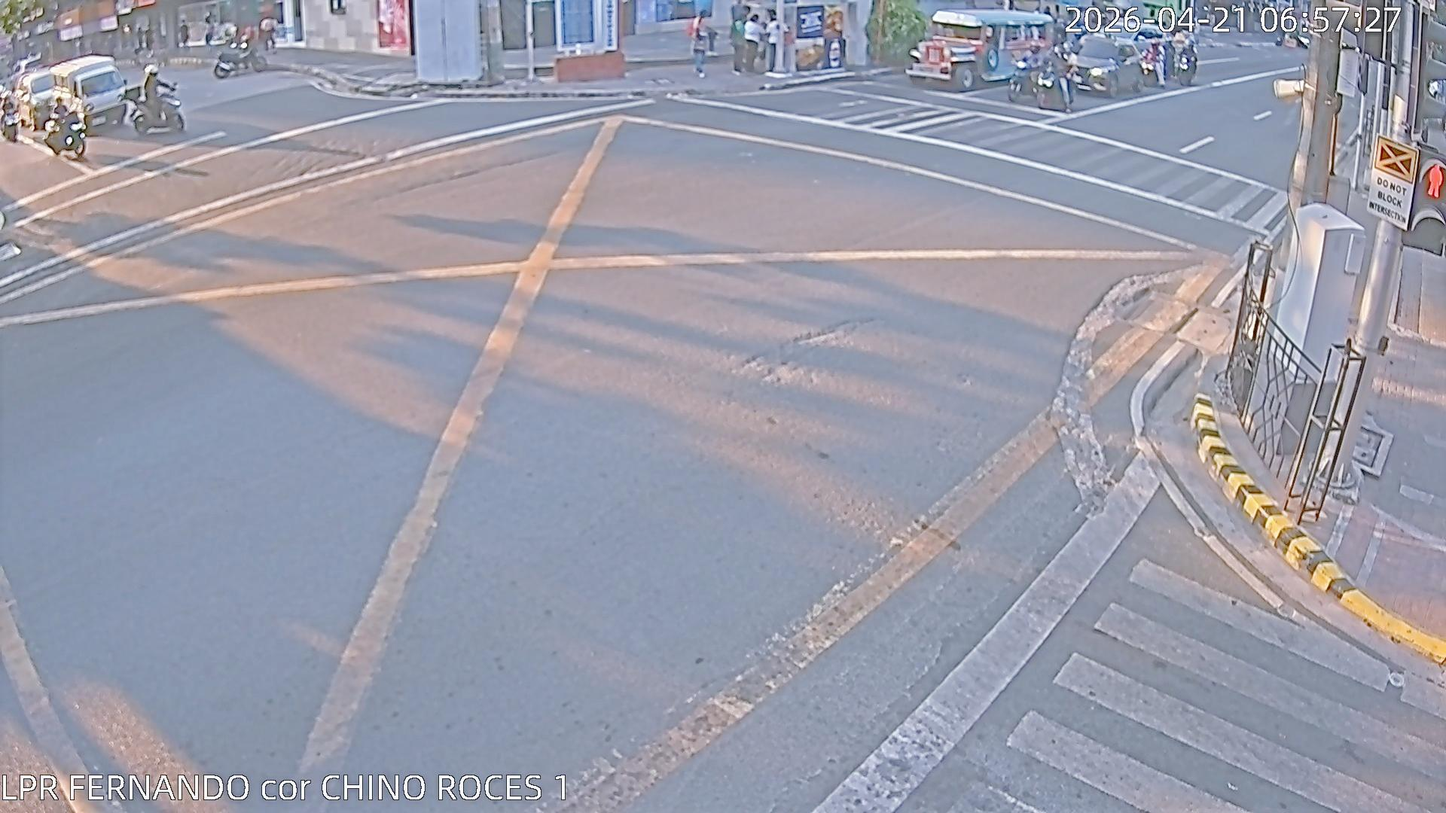Car: (1066, 36, 1147, 112), (57, 58, 133, 134), (15, 79, 74, 131)
Motor: (208, 14, 287, 88), (133, 70, 200, 140), (1158, 30, 1213, 91), (1026, 56, 1074, 123), (47, 101, 96, 166), (1005, 50, 1039, 110), (0, 97, 26, 145)
